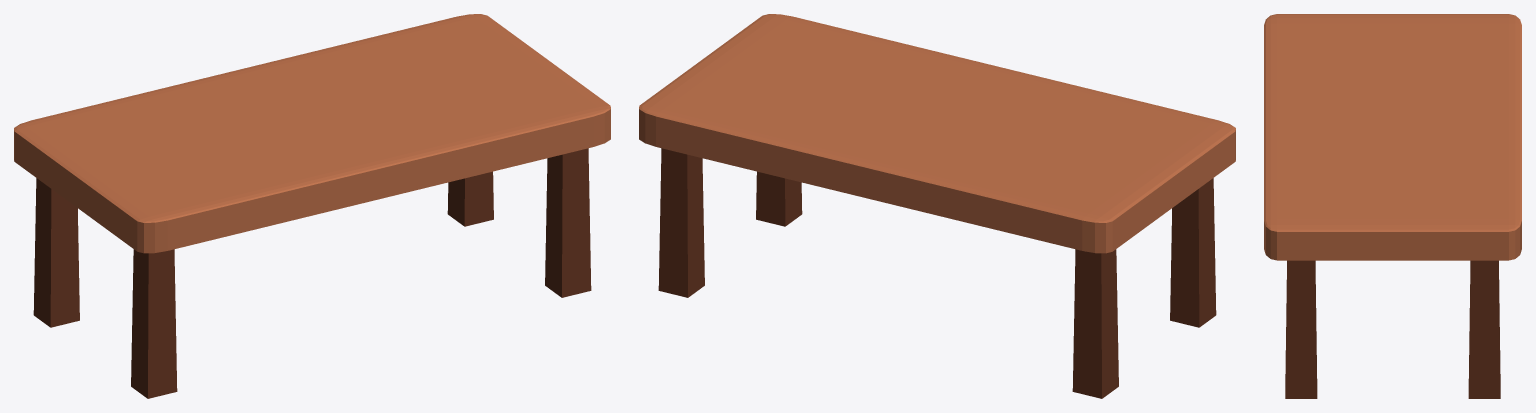
Rendered from base_2unit_table_asset.fbx.
3 renders of one model, left to right at view 1: azimuth 30°, elevation 25°; view 2: azimuth 150°, elevation 25°; view 3: azimuth 270°, elevation 25°, orthographic. The views are drawn at different scales.
Parts seen in each view (by area): view 1: Cube.139, Cube.140; view 2: Cube.139, Cube.140; view 3: Cube.139, Cube.140.
Part boxes in pixels (x1=…): Cube.139: x1=14, y1=14, x2=610, y2=253; Cube.140: x1=33, y1=148, x2=591, y2=398; Cube.139: x1=639, y1=14, x2=1235, y2=253; Cube.140: x1=658, y1=148, x2=1216, y2=398; Cube.139: x1=1264, y1=14, x2=1521, y2=260; Cube.140: x1=1285, y1=260, x2=1500, y2=398.
Size of the model in its own units: 100 by 37.6 by 50.
